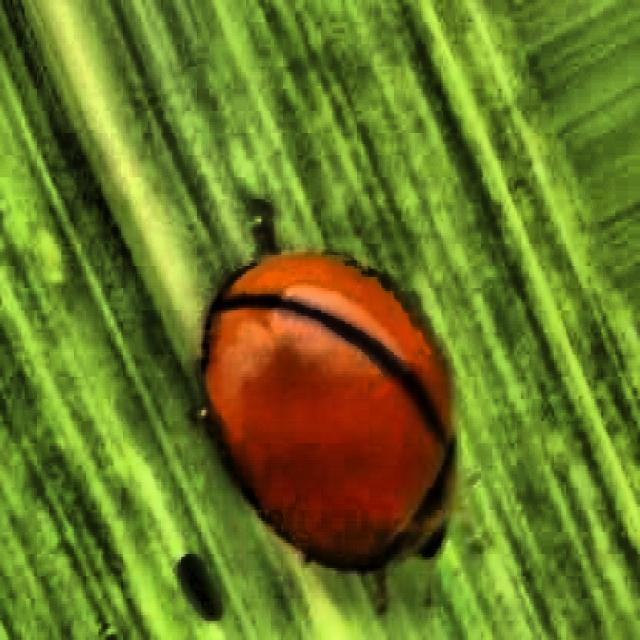Ladybug: (118, 160, 509, 640)
